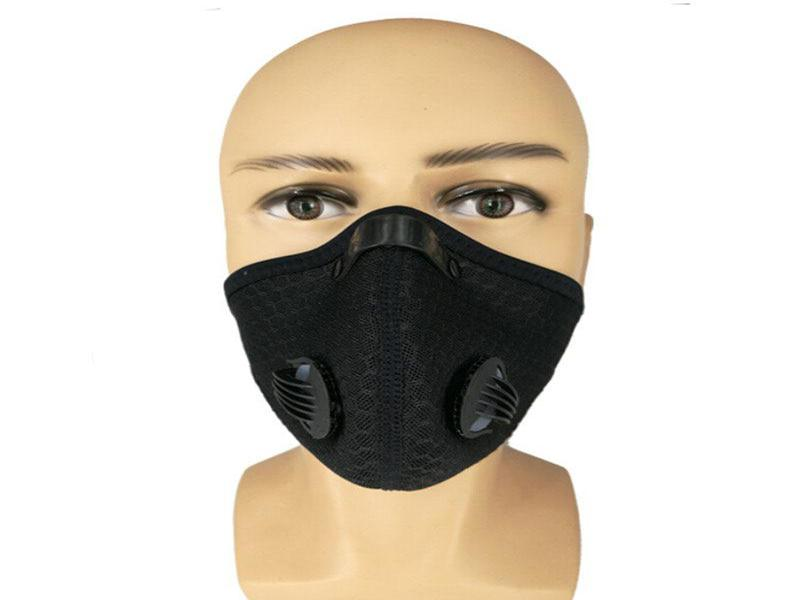with_mask: (216, 20, 594, 491)
